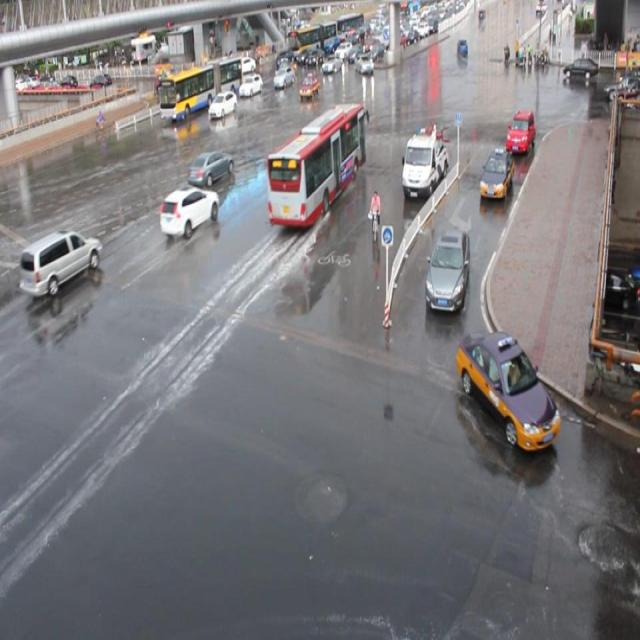bus: (400, 128, 447, 198)
car: (455, 328, 560, 448), (20, 228, 102, 298), (423, 226, 469, 312), (160, 186, 218, 237), (478, 146, 513, 198), (188, 150, 235, 188), (504, 109, 533, 154), (208, 91, 237, 119), (178, 85, 203, 112), (239, 74, 263, 97), (299, 74, 320, 100), (272, 67, 294, 88)
van: (266, 101, 365, 226), (158, 54, 242, 123)
